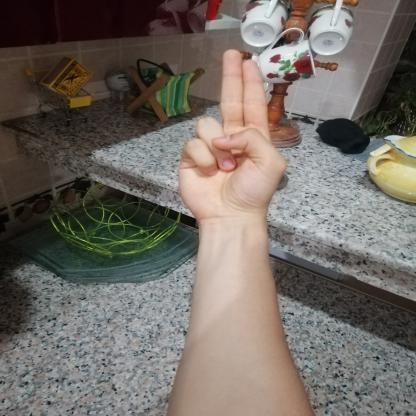TA: (162, 40, 301, 230)
